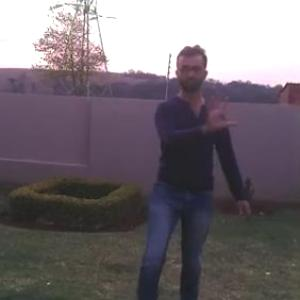follow_hand: (203, 87, 240, 133)
